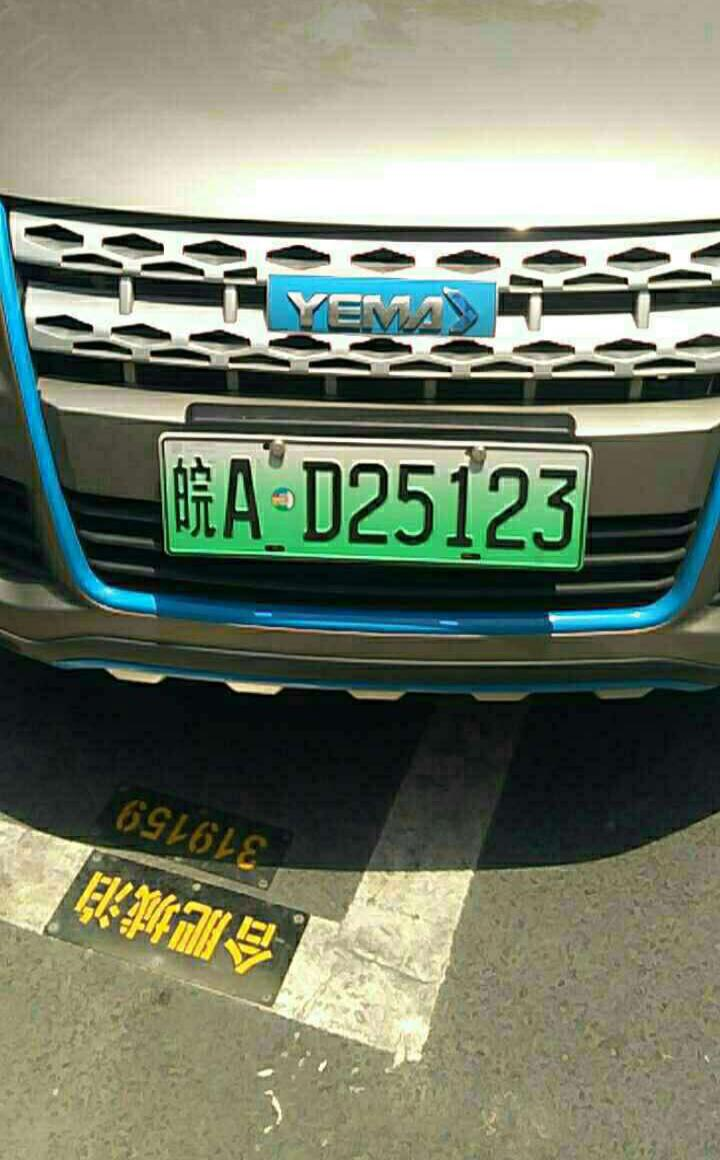car_id: (157, 435, 595, 563)
